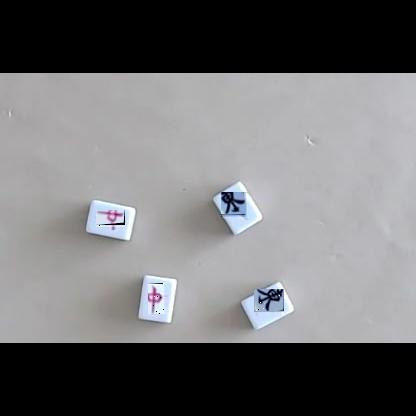1z: (254, 290, 284, 316), (222, 193, 250, 220)
7z: (149, 283, 168, 314), (96, 211, 125, 230)
